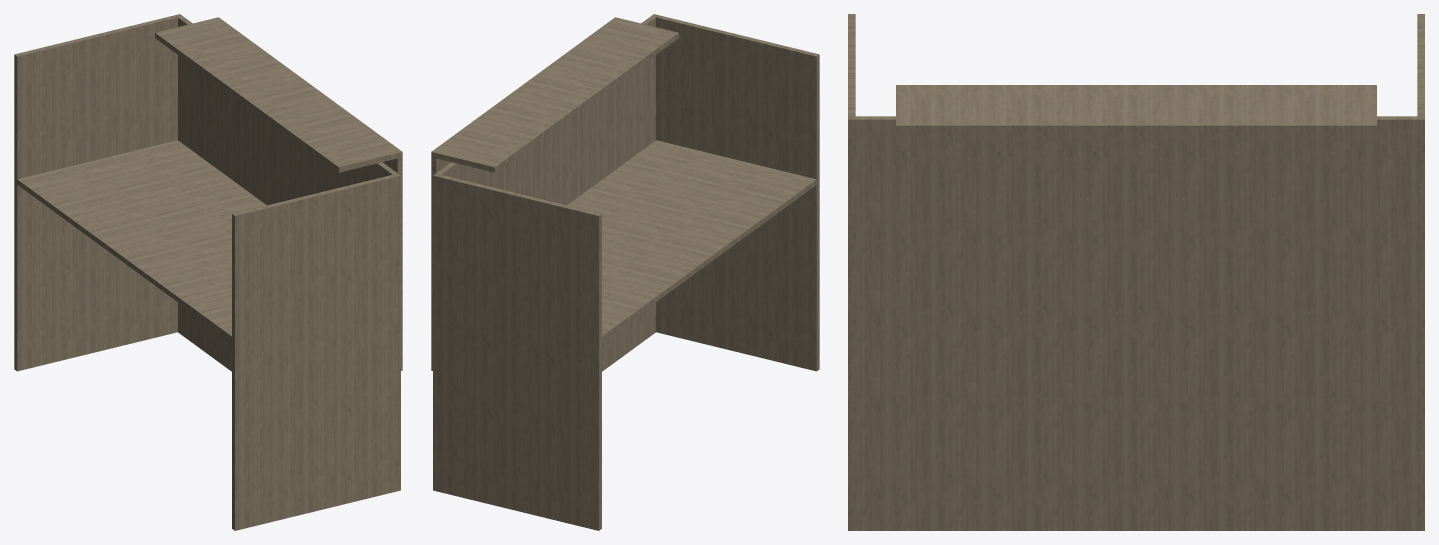
Rendered from res2.glb.
3 views of the same model, side by side, from view 1: azimuth 30°, elevation 25°; view 2: azimuth 150°, elevation 25°; view 3: azimuth 270°, elevation 25° (orthographic). The views are drawn at different scales.
Visible parts, largest first — view 1: Box067, Box068, Box070, Box069, Box071, Box074; view 2: Box068, Box067, Box070, Box069, Box071, Box074; view 3: Box074, Box069, Box071, Box067, Box068.
Boxes of the visible parts, x1,y1,x2,y2 form: Box067: [232, 173, 400, 530]; Box068: [14, 14, 182, 371]; Box070: [17, 140, 266, 341]; Box069: [178, 16, 397, 371]; Box071: [155, 17, 402, 172]; Box074: [383, 157, 402, 370]; Box068: [433, 173, 601, 530]; Box067: [651, 14, 819, 371]; Box070: [567, 140, 816, 341]; Box069: [436, 16, 655, 371]; Box071: [431, 17, 678, 172]; Box074: [431, 157, 450, 370]; Box074: [896, 132, 1376, 411]; Box069: [855, 116, 1417, 530]; Box071: [896, 85, 1376, 132]; Box067: [848, 14, 855, 530]; Box068: [1417, 14, 1424, 530].
Size of the model in its own units: 0.7296 by 1.2 by 1.5.
Materials: 1 (1 with a texture image).
